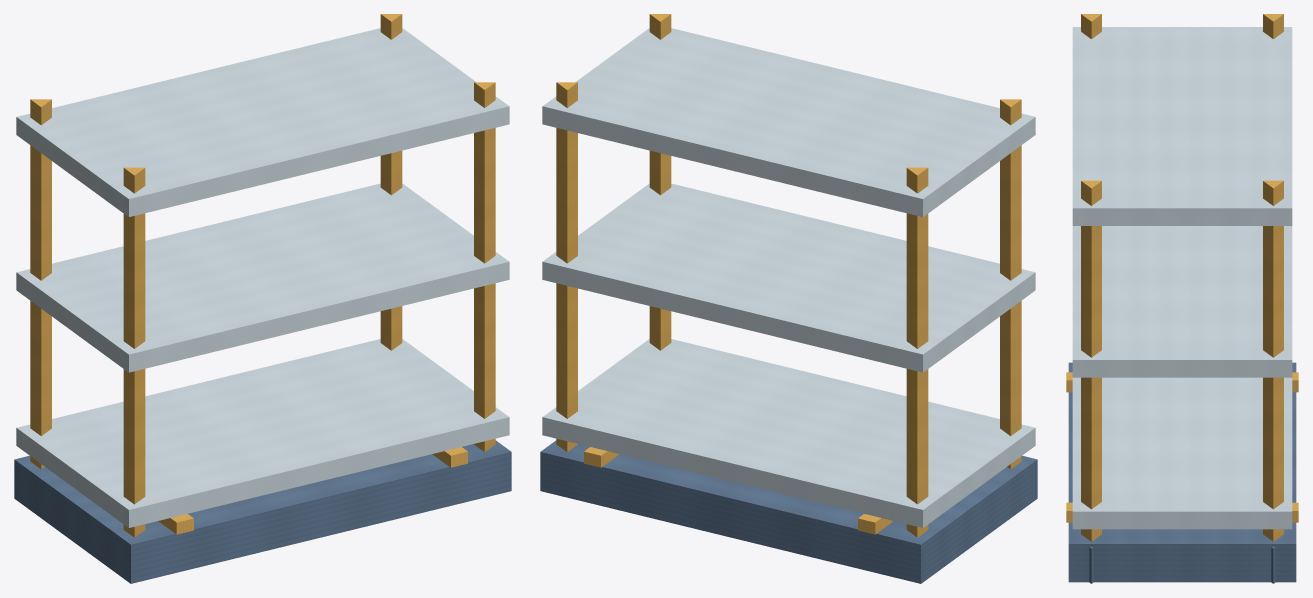
The model's file is atlas100-s059-a06.lod2.glb.
The picture shows the model from 3 angles, left to right: view 1: azimuth 30°, elevation 25°; view 2: azimuth 150°, elevation 25°; view 3: azimuth 270°, elevation 25°; orthographic projection. The views are drawn at different scales.
Parts seen in each view (by area): view 1: atlas100-s059-a06:part-013, atlas100-s059-a06:part-011, atlas100-s059-a06:part-012, atlas100-s059-a06:part-000, atlas100-s059-a06:part-005, atlas100-s059-a06:part-009, atlas100-s059-a06:part-003, atlas100-s059-a06:part-007; view 2: atlas100-s059-a06:part-013, atlas100-s059-a06:part-011, atlas100-s059-a06:part-012, atlas100-s059-a06:part-000, atlas100-s059-a06:part-003, atlas100-s059-a06:part-007, atlas100-s059-a06:part-005, atlas100-s059-a06:part-009; view 3: atlas100-s059-a06:part-013, atlas100-s059-a06:part-011, atlas100-s059-a06:part-012, atlas100-s059-a06:part-000, atlas100-s059-a06:part-007, atlas100-s059-a06:part-009, atlas100-s059-a06:part-003, atlas100-s059-a06:part-005.
Boxes of the visible parts, box(x1,y1,x2,y2) form: atlas100-s059-a06:part-013: box(16, 28, 509, 216); atlas100-s059-a06:part-011: box(16, 339, 509, 527); atlas100-s059-a06:part-012: box(16, 183, 509, 372); atlas100-s059-a06:part-000: box(14, 440, 511, 583); atlas100-s059-a06:part-005: box(123, 167, 145, 537); atlas100-s059-a06:part-009: box(474, 82, 495, 452); atlas100-s059-a06:part-003: box(30, 99, 51, 469); atlas100-s059-a06:part-007: box(380, 14, 402, 350); atlas100-s059-a06:part-013: box(542, 28, 1035, 216); atlas100-s059-a06:part-011: box(542, 339, 1035, 527); atlas100-s059-a06:part-012: box(542, 183, 1035, 372); atlas100-s059-a06:part-000: box(540, 440, 1037, 583); atlas100-s059-a06:part-003: box(906, 167, 928, 537); atlas100-s059-a06:part-007: box(556, 82, 577, 452); atlas100-s059-a06:part-005: box(1000, 99, 1021, 469); atlas100-s059-a06:part-009: box(649, 14, 671, 350); atlas100-s059-a06:part-013: box(1072, 27, 1292, 225); atlas100-s059-a06:part-011: box(1072, 377, 1292, 529); atlas100-s059-a06:part-012: box(1072, 226, 1292, 377); atlas100-s059-a06:part-000: box(1068, 362, 1296, 582); atlas100-s059-a06:part-007: box(1263, 180, 1283, 541); atlas100-s059-a06:part-009: box(1081, 180, 1101, 541); atlas100-s059-a06:part-003: box(1263, 14, 1283, 38); atlas100-s059-a06:part-005: box(1081, 14, 1101, 38).
Size of the model in its own units: 2.66 by 2.66 by 1.43.
3 materials, 3 textured.
